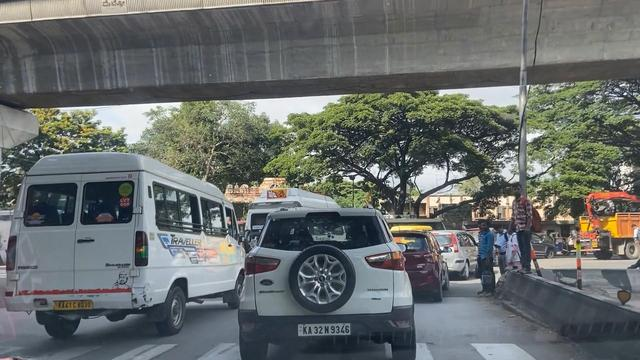HMV: (22, 162, 241, 325)
LMV: (242, 200, 415, 360)
